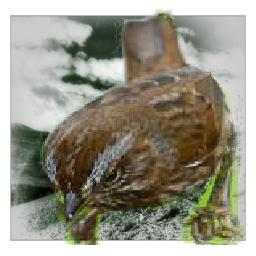Sparrow: (38, 9, 248, 245)
